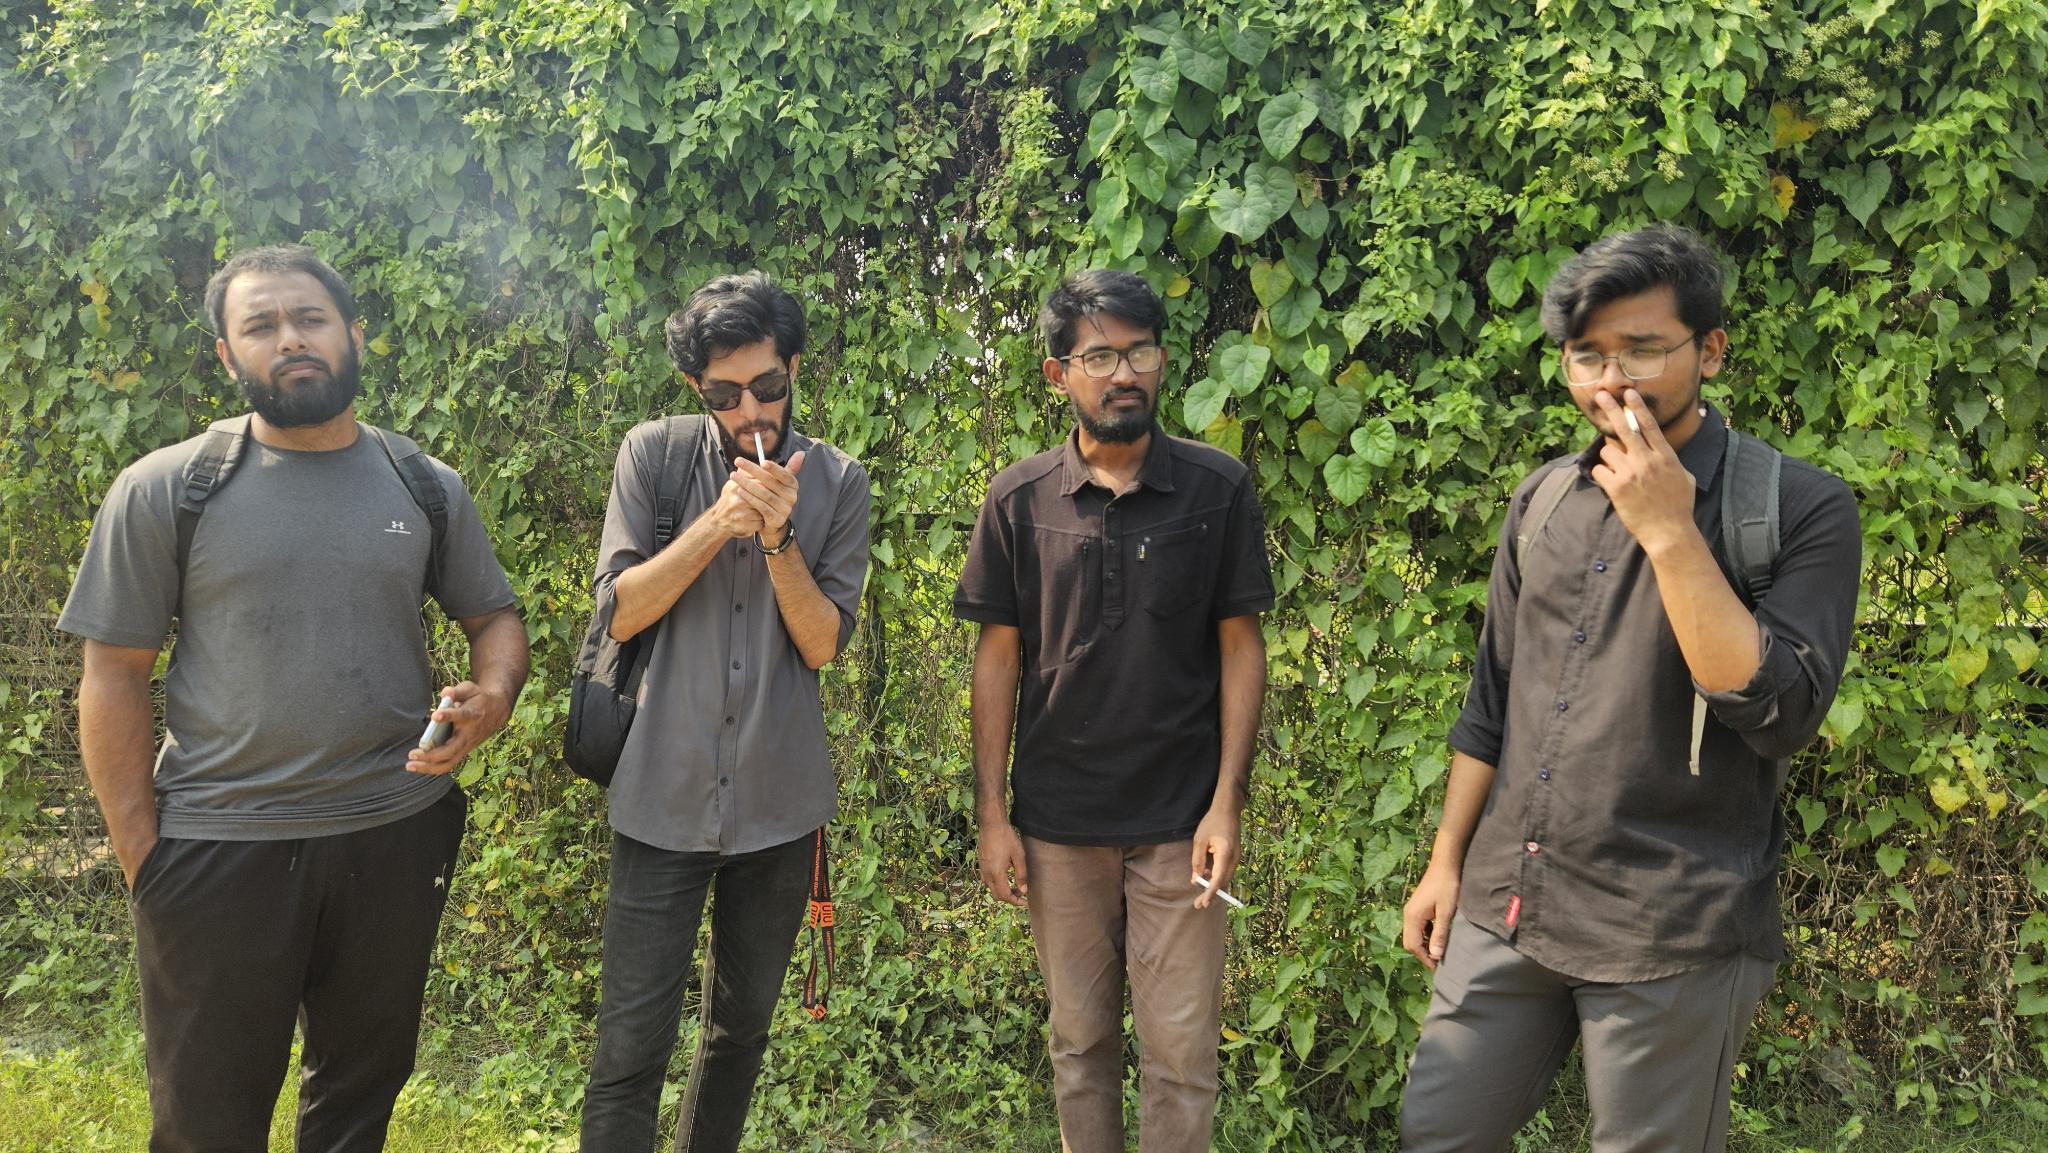cigarette: (1196, 876, 1245, 911), (1622, 404, 1641, 436), (753, 432, 767, 470)
nonSmoker: (55, 247, 532, 1153)
smoker: (1398, 229, 1861, 1153), (954, 269, 1277, 1153), (563, 270, 871, 1153)
